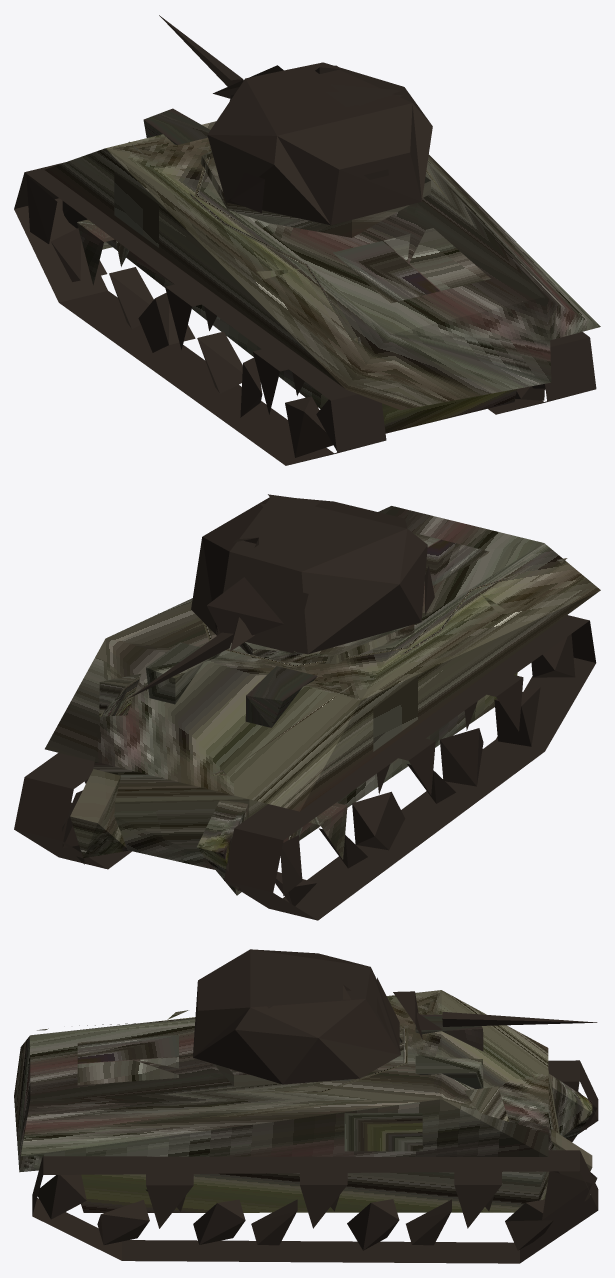
The picture shows the model from 3 angles, top to bottom: view 1: azimuth 30°, elevation 25°; view 2: azimuth 150°, elevation 25°; view 3: azimuth 270°, elevation 25°; orthographic projection. The views are drawn at different scales.
Visible parts, largest first — view 1: Object_4; view 2: Object_4; view 3: Object_4.
Boxes of the visible parts, x1,y1,x2,y2 form: Object_4: (14,15,600,465); Object_4: (14,494,600,920); Object_4: (14,949,598,1263).
Size of the model in its own units: 4.4 by 4.4 by 9.85.
Materials: 1 (1 with a texture image).
